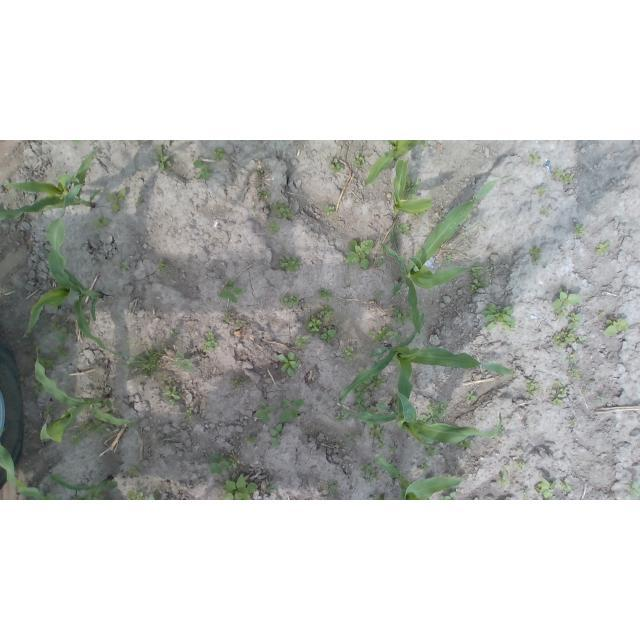Maize: (382, 174, 514, 335), (23, 182, 118, 354), (338, 313, 513, 402), (339, 363, 505, 446), (34, 344, 136, 444), (1, 428, 119, 501), (2, 150, 103, 223), (374, 453, 465, 500), (363, 141, 422, 186), (392, 159, 433, 214)
Weeds: (481, 301, 515, 331), (122, 348, 157, 376), (343, 239, 374, 270), (223, 474, 259, 500), (535, 478, 574, 499), (418, 399, 449, 423), (78, 418, 110, 438), (218, 278, 242, 304), (279, 397, 303, 423), (552, 329, 586, 347), (105, 187, 127, 213), (551, 289, 581, 307), (280, 353, 301, 378), (173, 351, 195, 374), (156, 143, 172, 173), (548, 380, 567, 405), (255, 402, 277, 423), (604, 318, 628, 336), (210, 453, 230, 473), (193, 160, 213, 180), (273, 198, 292, 218), (499, 464, 514, 488), (199, 332, 217, 351), (282, 256, 302, 273), (355, 386, 368, 412), (407, 177, 421, 200), (271, 424, 284, 448), (360, 463, 377, 481), (296, 334, 315, 350), (164, 384, 180, 402), (48, 321, 70, 334), (567, 312, 583, 329), (555, 167, 573, 181), (308, 316, 322, 334), (283, 294, 302, 307), (367, 378, 386, 391), (391, 308, 408, 322), (373, 327, 391, 340), (342, 346, 357, 361), (321, 328, 337, 342), (321, 305, 335, 321), (472, 279, 489, 292), (93, 217, 111, 229), (329, 156, 341, 173), (630, 479, 640, 499), (369, 423, 383, 437), (39, 356, 53, 369), (266, 223, 280, 236), (527, 382, 541, 395), (395, 221, 410, 233), (128, 490, 145, 500), (596, 242, 609, 255), (212, 148, 225, 161), (529, 247, 541, 261), (529, 152, 542, 164), (224, 310, 236, 322), (516, 461, 529, 472), (72, 437, 85, 448), (57, 347, 70, 358), (575, 223, 586, 235), (425, 445, 437, 456), (325, 206, 337, 217), (233, 377, 246, 387), (354, 156, 364, 169), (442, 492, 457, 500), (32, 382, 42, 394), (470, 269, 483, 278), (170, 331, 183, 340), (58, 335, 71, 344), (555, 307, 566, 317), (461, 439, 472, 449), (321, 290, 333, 299), (230, 455, 238, 468), (245, 435, 255, 445), (467, 391, 477, 401), (346, 430, 354, 442), (129, 467, 139, 476), (155, 262, 165, 271), (47, 406, 58, 414), (571, 368, 582, 376), (333, 413, 347, 419), (185, 410, 194, 419), (259, 190, 269, 198), (236, 318, 245, 326), (421, 461, 430, 469), (378, 440, 387, 448), (372, 494, 384, 500), (389, 444, 397, 453), (119, 262, 127, 271), (329, 484, 338, 492), (565, 354, 573, 362), (540, 208, 548, 216), (372, 291, 382, 297), (539, 188, 546, 196), (597, 395, 604, 403), (445, 257, 452, 264), (73, 140, 81, 146), (267, 487, 273, 494), (259, 169, 265, 175), (599, 312, 606, 317), (571, 417, 576, 424), (370, 331, 375, 336)
